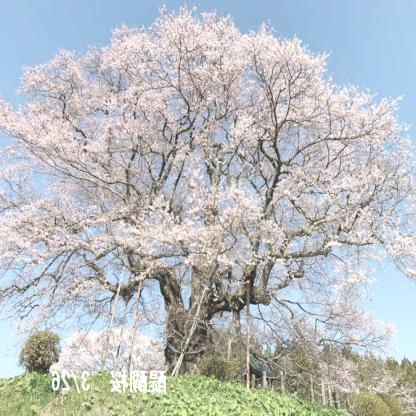EdohiganSakura: (56, 334, 160, 375)
Someiyoshino: (1, 4, 413, 327)
